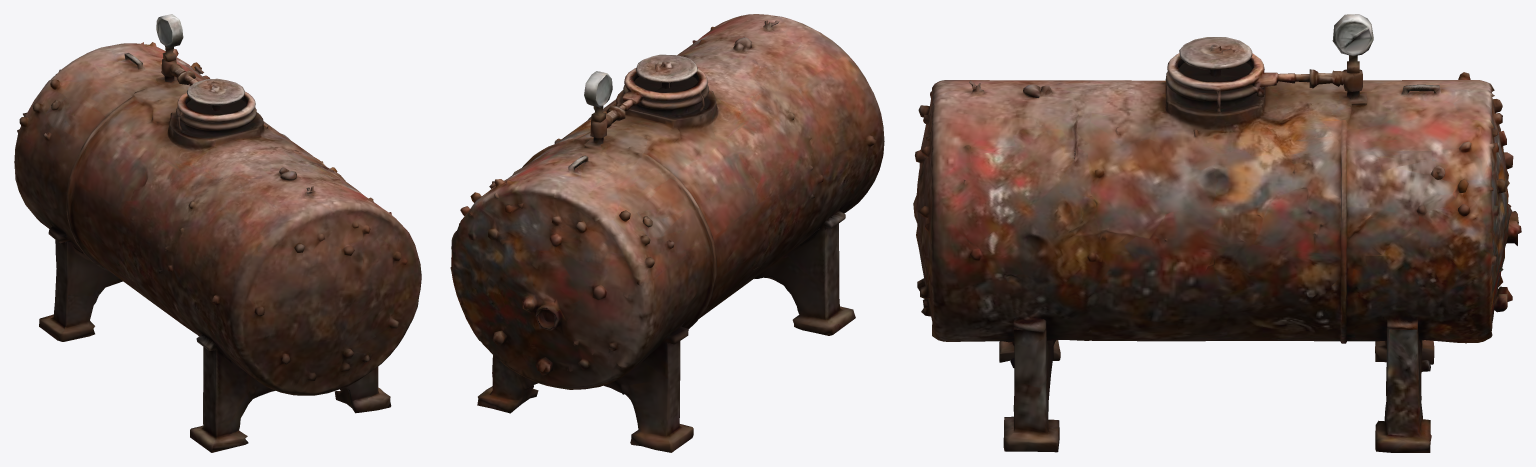
Rendered from gr_fueltank.glb.
3 renders of one model, left to right at view 1: azimuth 30°, elevation 25°; view 2: azimuth 150°, elevation 25°; view 3: azimuth 270°, elevation 25°, orthographic. The views are drawn at different scales.
Parts seen in each view (by area): view 1: tripo_node_1752c035-bd22-412d-8758-69711106cef8; view 2: tripo_node_1752c035-bd22-412d-8758-69711106cef8; view 3: tripo_node_1752c035-bd22-412d-8758-69711106cef8.
Boxes of the visible parts, x1,y1,x2,y2 form: tripo_node_1752c035-bd22-412d-8758-69711106cef8: (14,14,421,452); tripo_node_1752c035-bd22-412d-8758-69711106cef8: (450,14,884,452); tripo_node_1752c035-bd22-412d-8758-69711106cef8: (913,14,1521,452).
Size of the model in its own units: 0.4688 by 0.6851 by 0.9788.
Materials: 1 (1 with a texture image).
